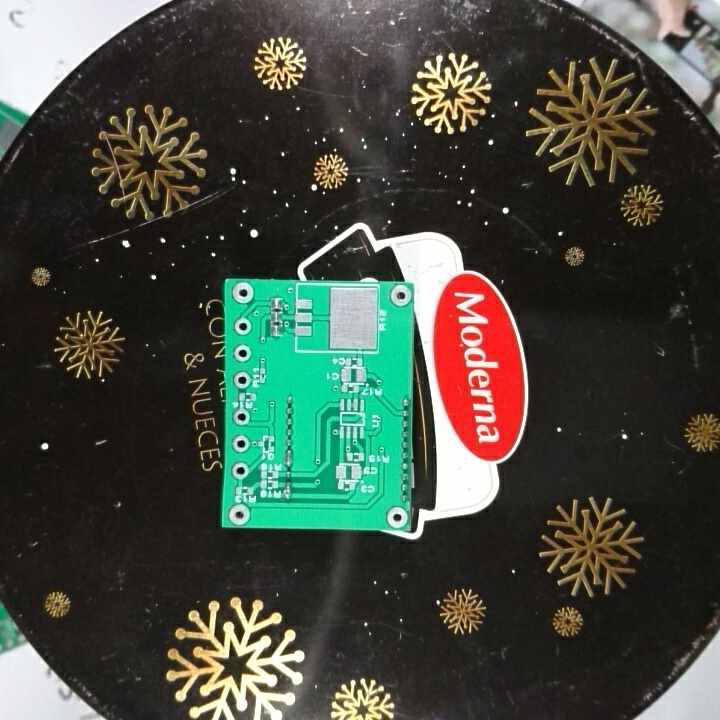F: (388, 280, 413, 311), (229, 279, 257, 306), (227, 501, 254, 524), (385, 503, 408, 528), (230, 342, 254, 363), (231, 316, 254, 337), (231, 369, 252, 392), (230, 459, 251, 482), (231, 405, 252, 427), (230, 432, 251, 454)
P: (282, 447, 295, 470), (281, 480, 295, 500)
